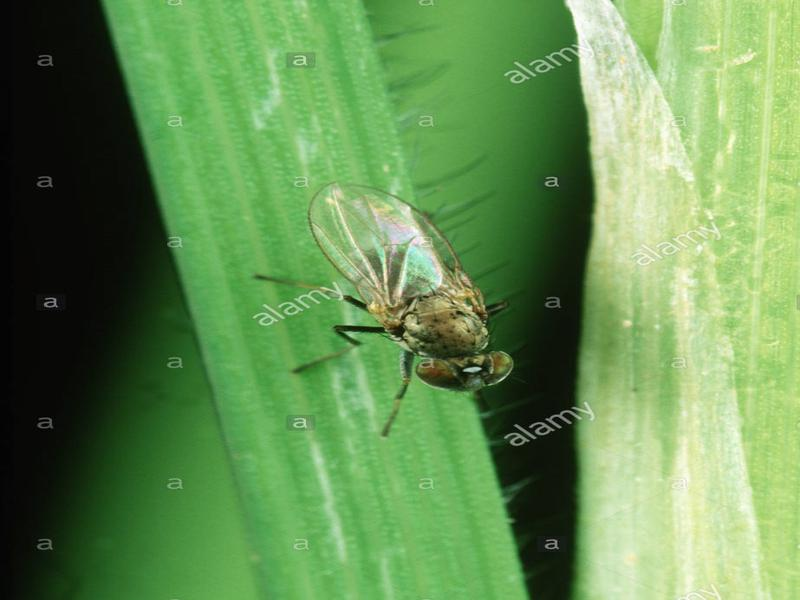Whorl_maggot: (297, 176, 529, 394)
